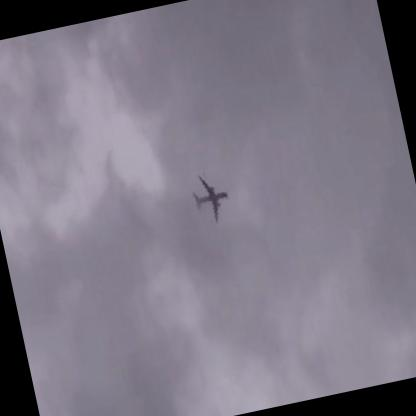plane: (186, 167, 236, 228)
